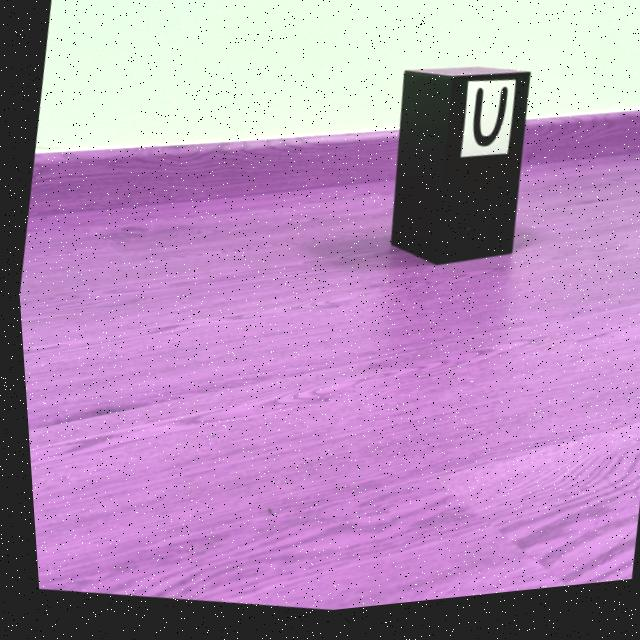U: (470, 97, 505, 156)
